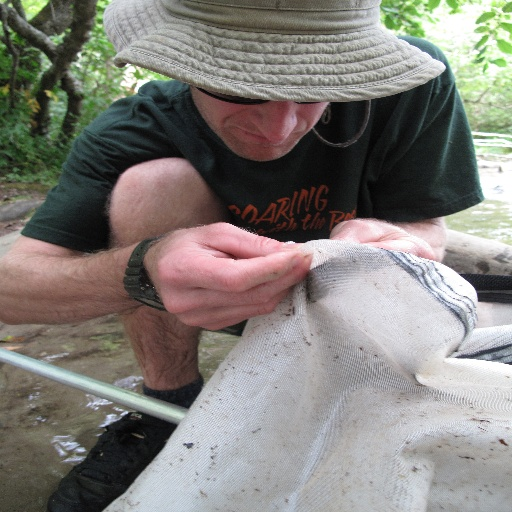hand: (126, 215, 335, 320), (328, 215, 446, 260)
